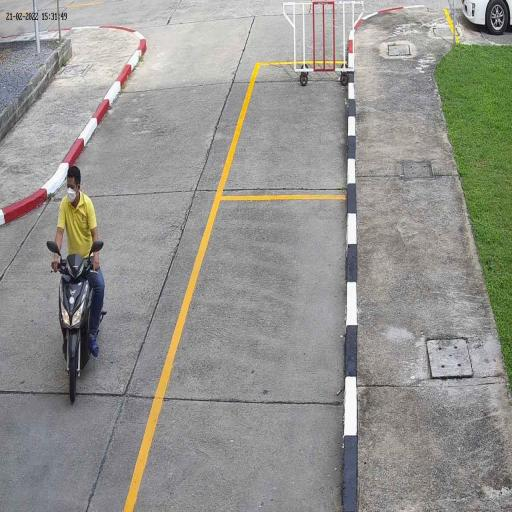motorcycle: (58, 254, 94, 404)
